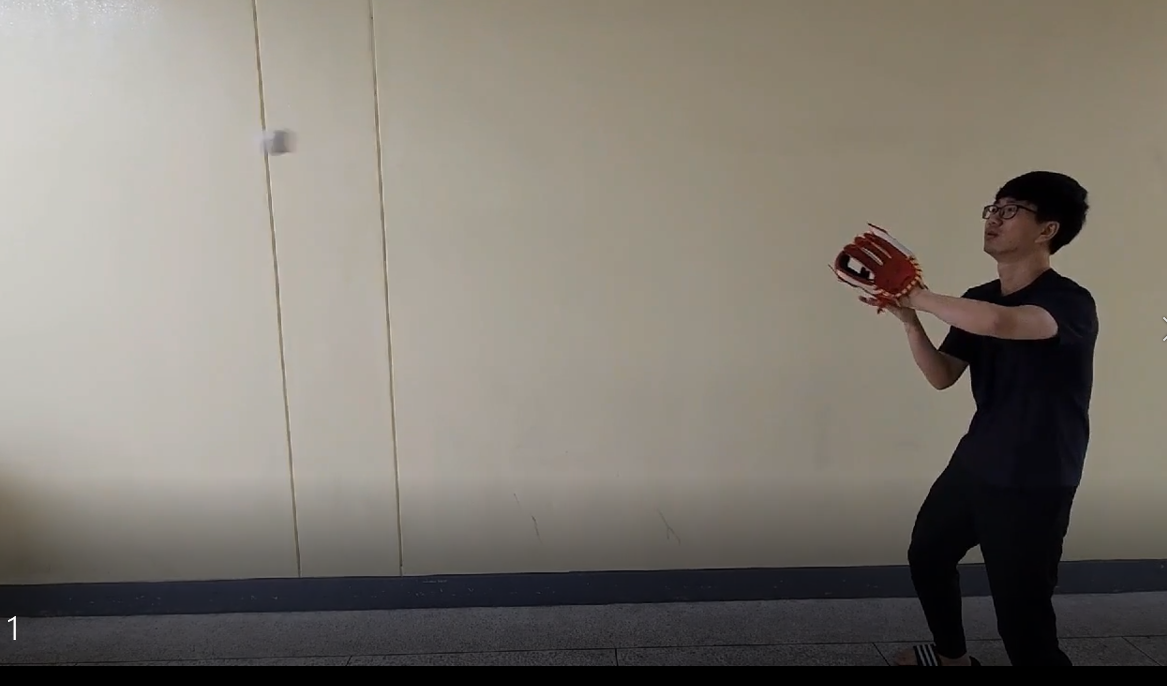ball: (260, 123, 295, 157)
